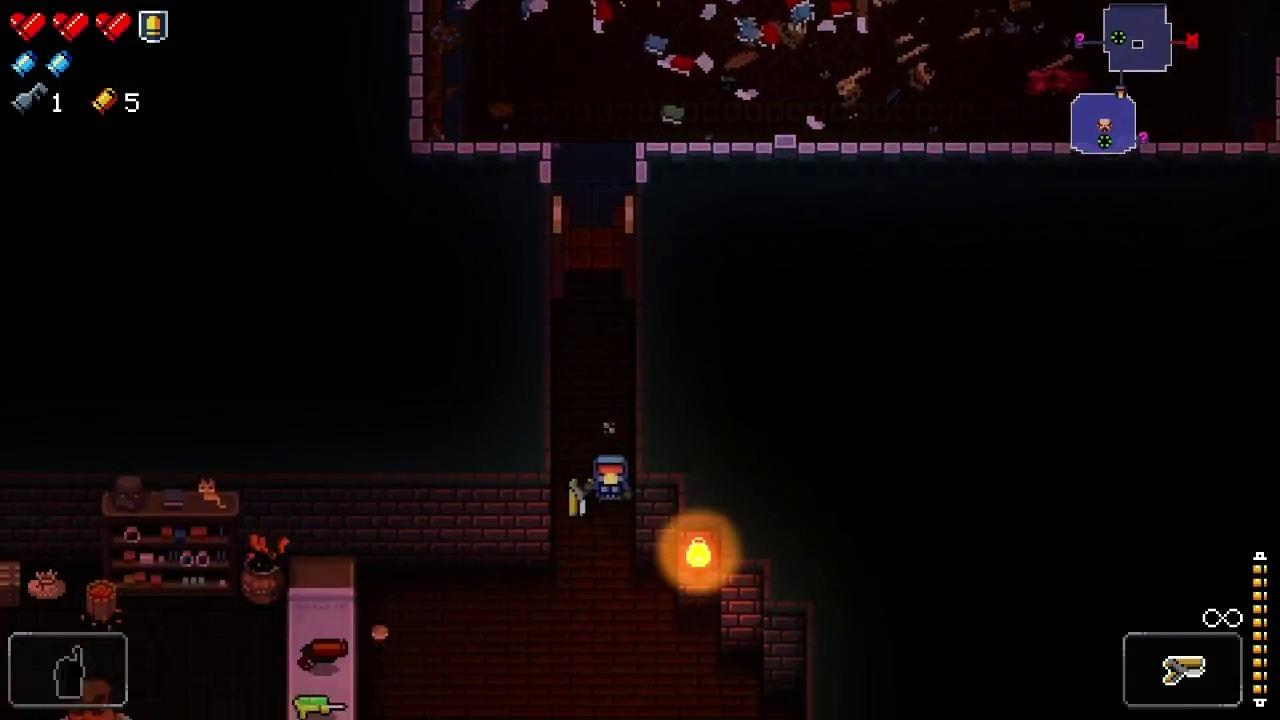player: (592, 454, 633, 505)
shopkeeper_table: (288, 587, 354, 720)
unlocked_door: (624, 194, 636, 301), (553, 196, 563, 300)
